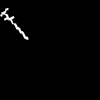double_crochet: (1, 8, 27, 38)
